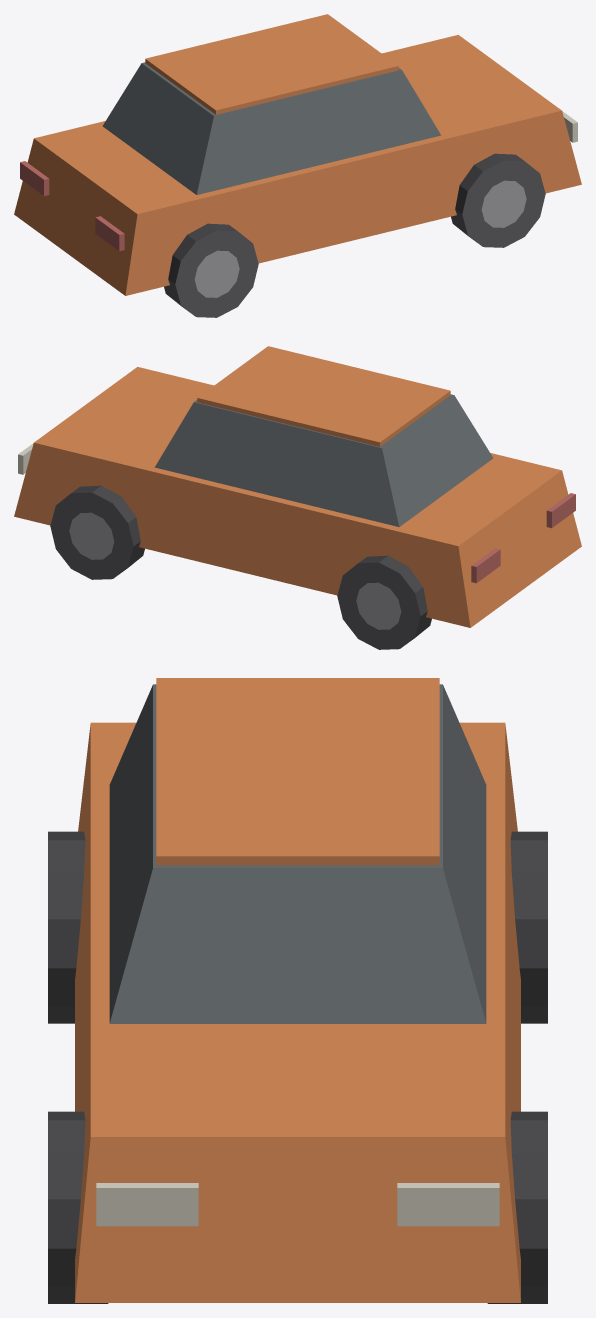
The model's file is car.gltf.
3 views of the same model, one above another, from view 1: azimuth 30°, elevation 25°; view 2: azimuth 150°, elevation 25°; view 3: azimuth 270°, elevation 25° (orthographic). The views are drawn at different scales.
Size of the model in its own units: 3.51 by 1.33 by 1.66.
